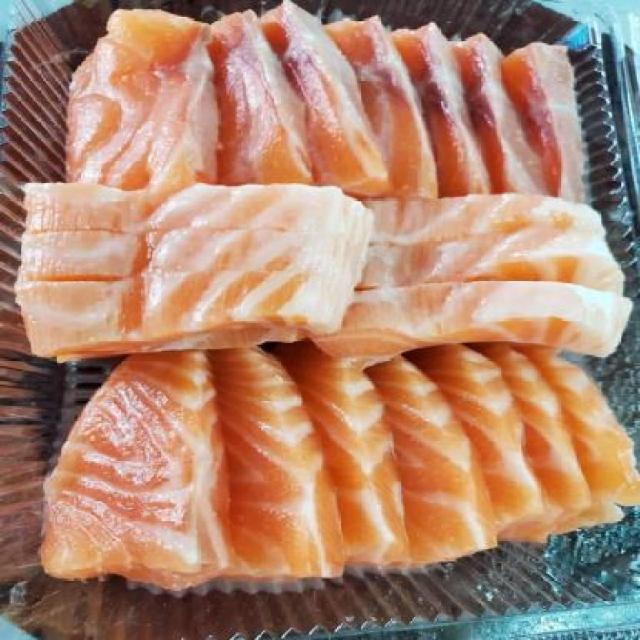salmon: (24, 8, 630, 580)
